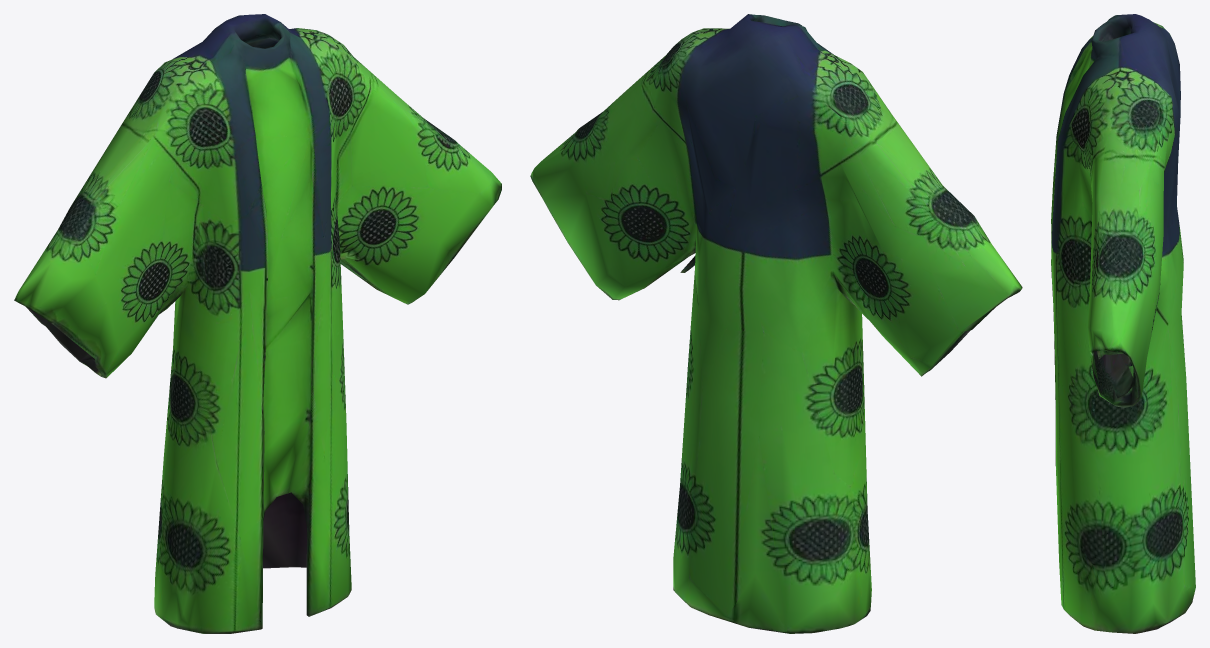
Rendered from haori-green.opt.glb.
The picture shows the model from 3 angles, left to right: view 1: azimuth 30°, elevation 25°; view 2: azimuth 150°, elevation 25°; view 3: azimuth 270°, elevation 25°; orthographic projection. The views are drawn at different scales.
Size of the model in its own units: 1.76 by 2 by 0.4617.
1 material, 1 textured.
